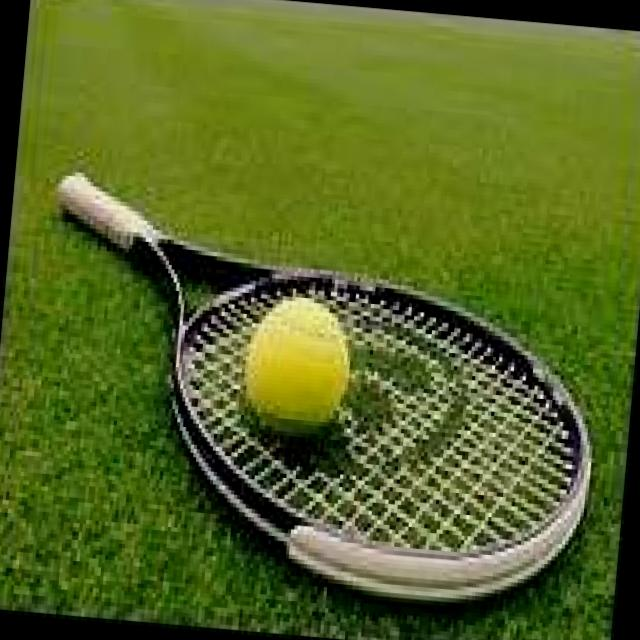Tennis Ball: (240, 296, 354, 438)
